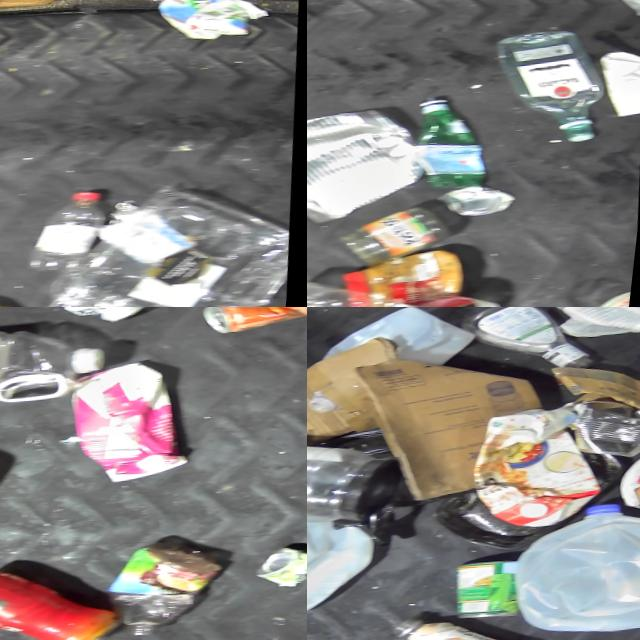can: (459, 558, 538, 617), (573, 394, 640, 451), (203, 307, 307, 335), (267, 538, 307, 585)
milk_jug: (516, 504, 640, 634), (307, 505, 375, 620)
plastic_bottle: (16, 184, 125, 272), (406, 92, 499, 188)
